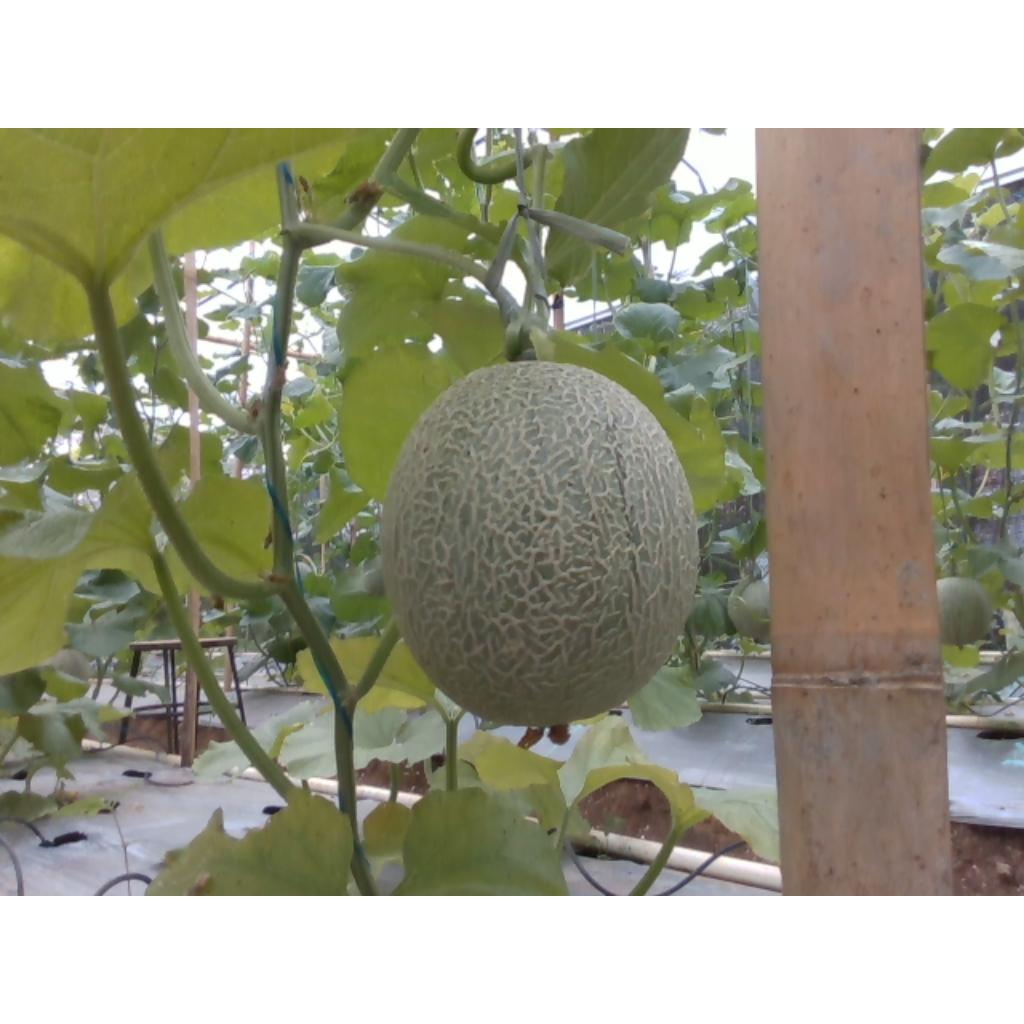melon: (382, 362, 699, 727)
